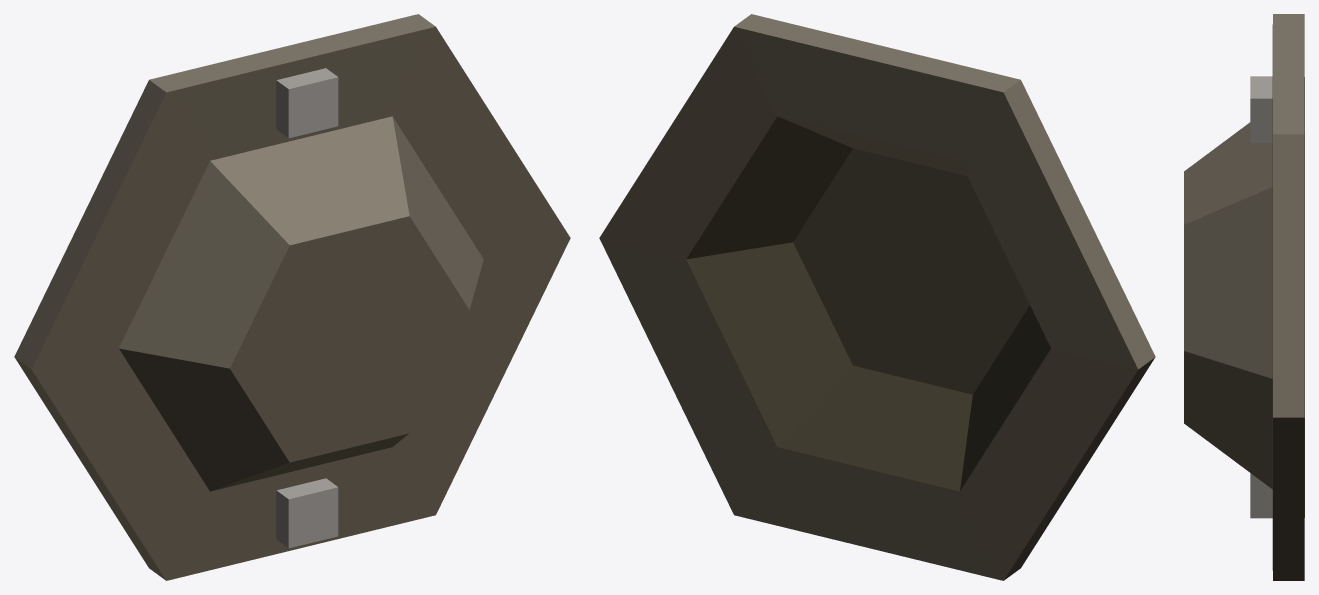
Rendered from SF_Wep_Buckler_01.fbx.
The picture shows the model from 3 angles, left to right: view 1: azimuth 30°, elevation 25°; view 2: azimuth 150°, elevation 25°; view 3: azimuth 270°, elevation 25°; orthographic projection. The views are drawn at different scales.
Visible parts, largest first — view 1: SF_Wep_Buckler_01; view 2: SF_Wep_Buckler_01; view 3: SF_Wep_Buckler_01.
Part boxes in pixels (x1=…): SF_Wep_Buckler_01: x1=14, y1=14, x2=570, y2=580; SF_Wep_Buckler_01: x1=599, y1=14, x2=1155, y2=580; SF_Wep_Buckler_01: x1=1184, y1=14, x2=1304, y2=580.
Size of the model in its own units: 0.7166 by 0.6206 by 0.1521.
